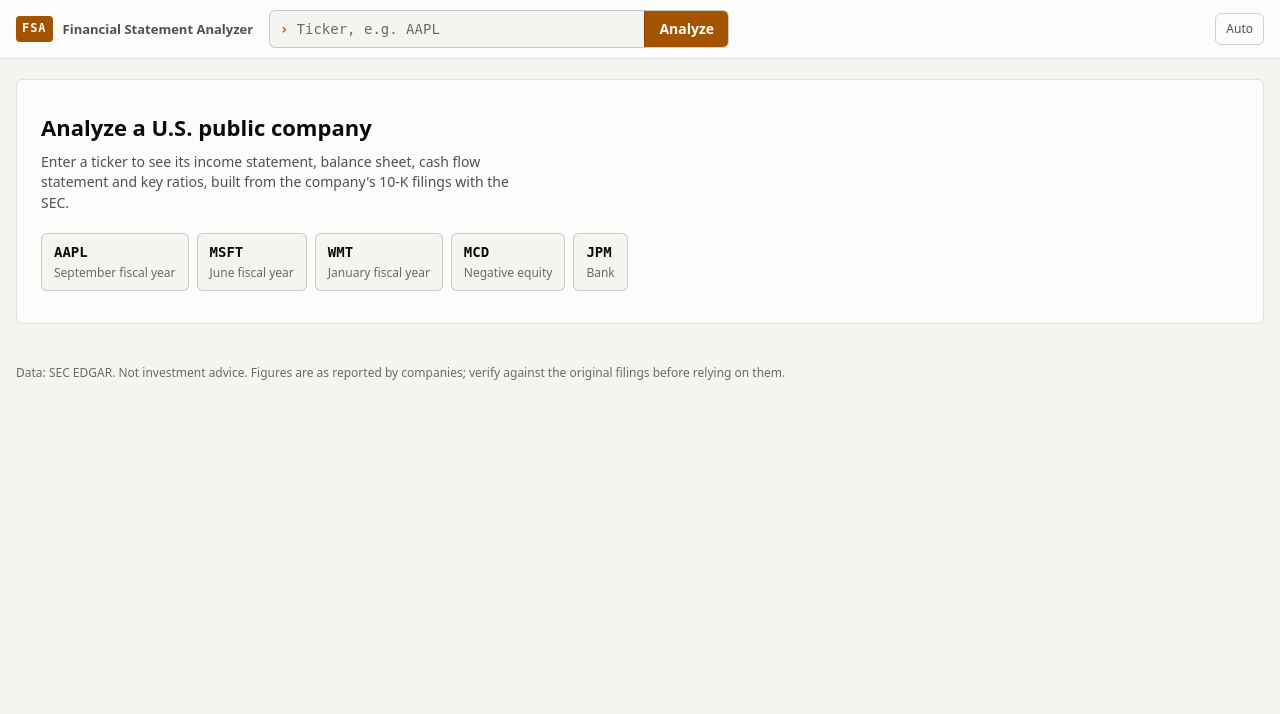
Scenario: Trend analysis › shows findings with their supporting numbers
This screenshot has width=1280, height=714.
Type "EXMP" into the field named "Company ticker" at (466, 29), box [288,13,644,45]
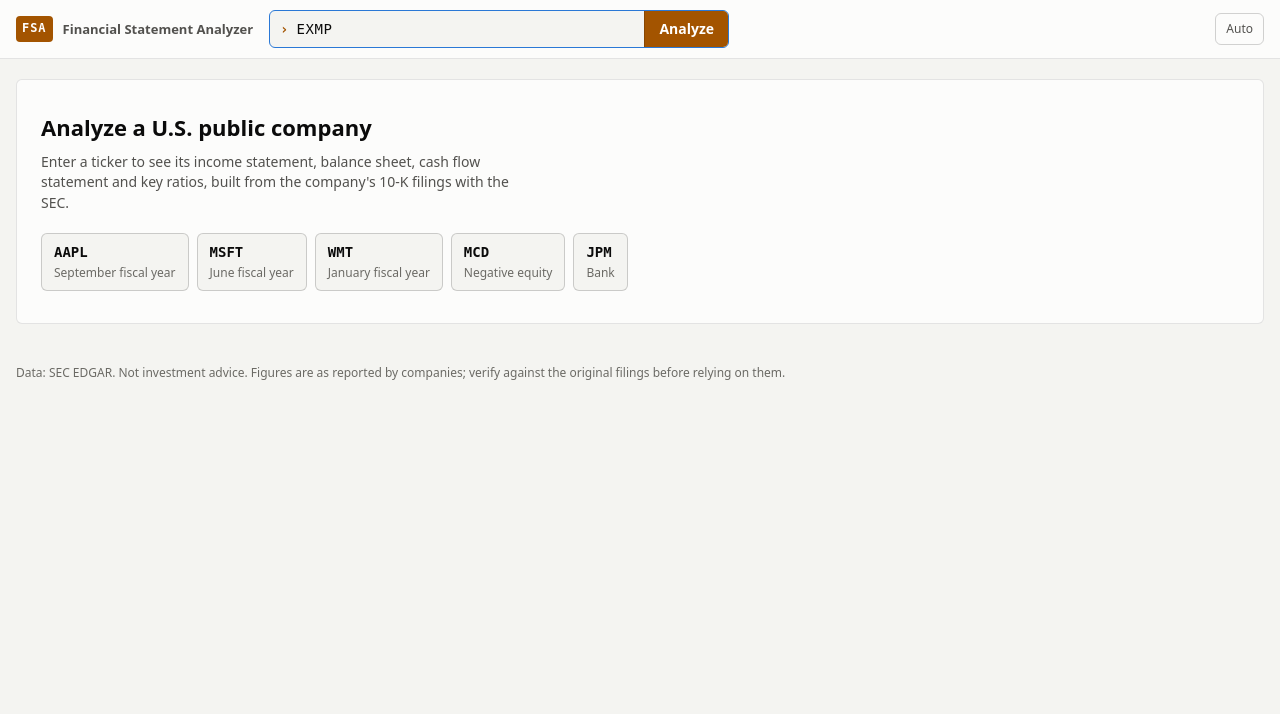
Click the button "Analyze" at (686, 29), box [644,11,728,47]
(page scrolled)
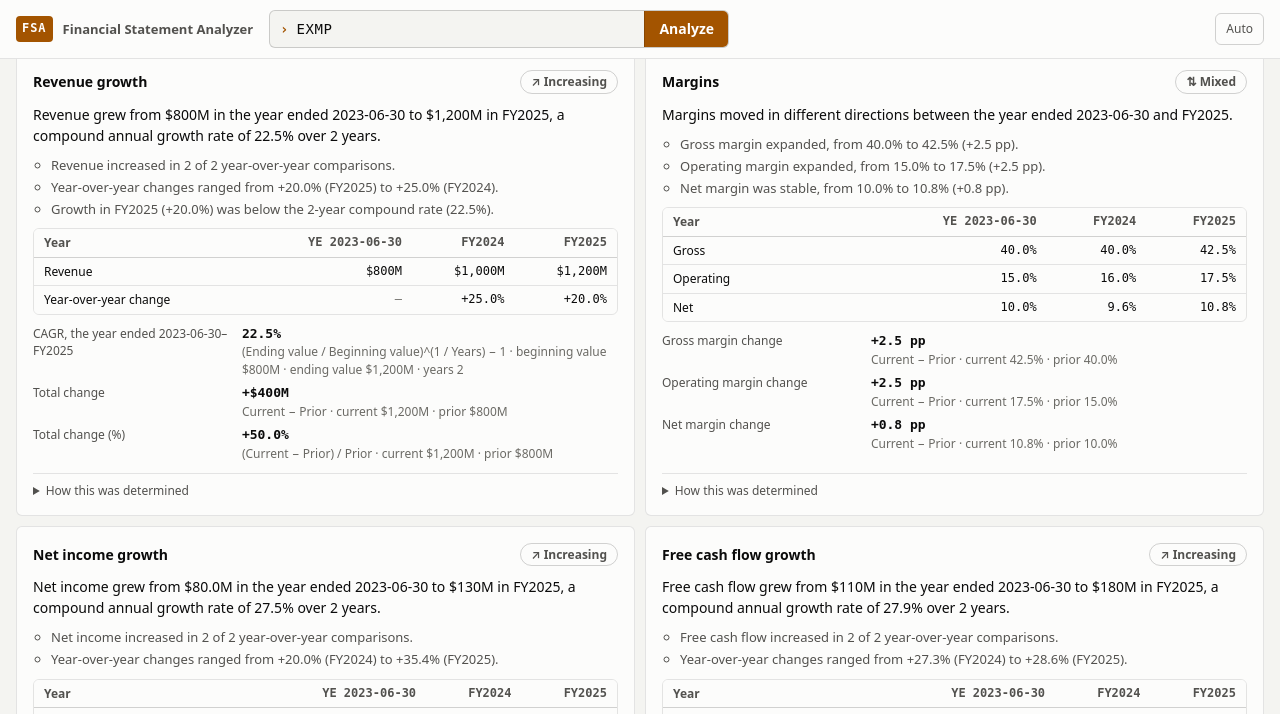
Check: the text "Revenue grew from $800M" is shown, box [33,105,565,145]
Check: the 1st text "Increasing" is shown, box [544,73,607,90]
Check: the text "$1,200M" is shown, box [514,258,617,286]
